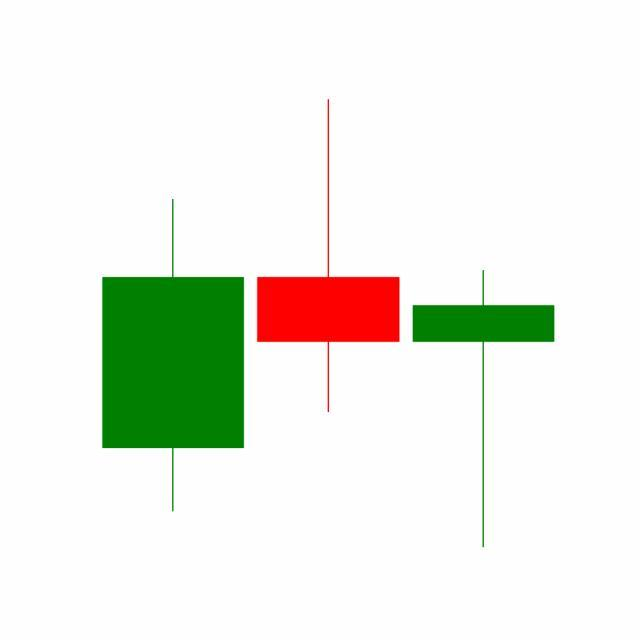Spinning Top: (250, 96, 407, 416)
